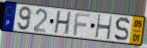2: (32, 8, 49, 34)
9: (17, 6, 33, 32)
F: (72, 12, 91, 37)
H: (94, 13, 113, 41), (53, 10, 73, 36)
S: (113, 16, 131, 43)
